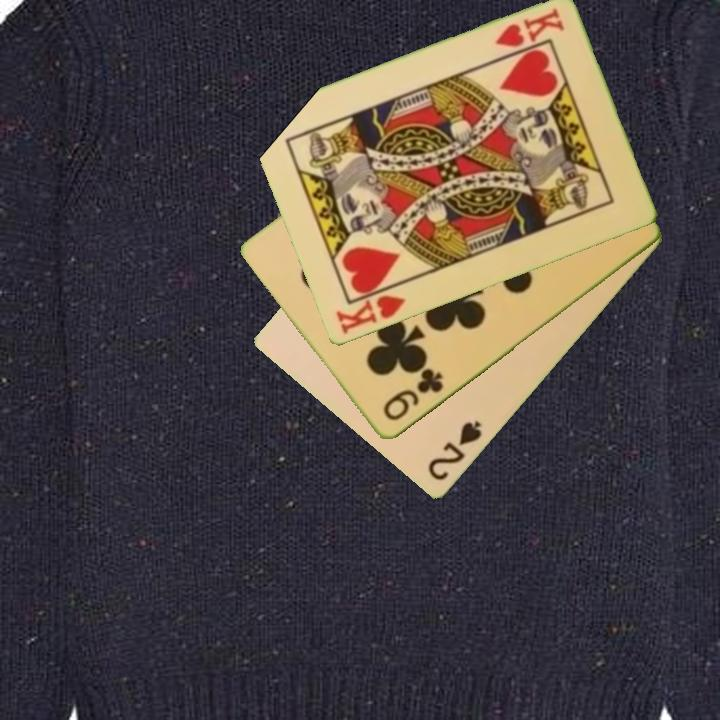2s: (424, 418, 485, 485)
9c: (379, 365, 446, 425)
Kh: (332, 280, 409, 338), (491, 5, 567, 51)
